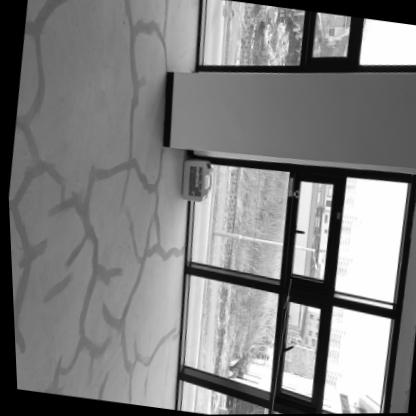DDL: (177, 155, 215, 202)
